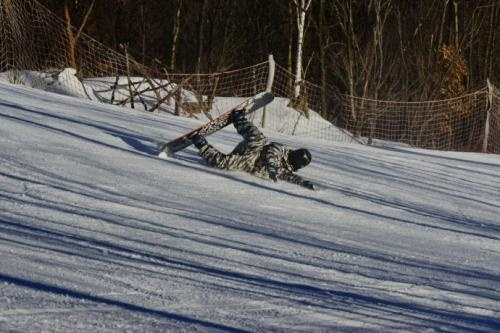falling: (164, 92, 325, 194)
